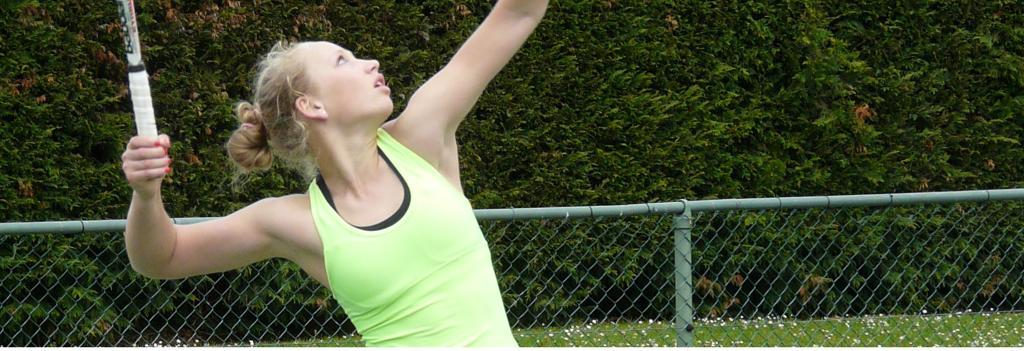face: (291, 39, 397, 111)
